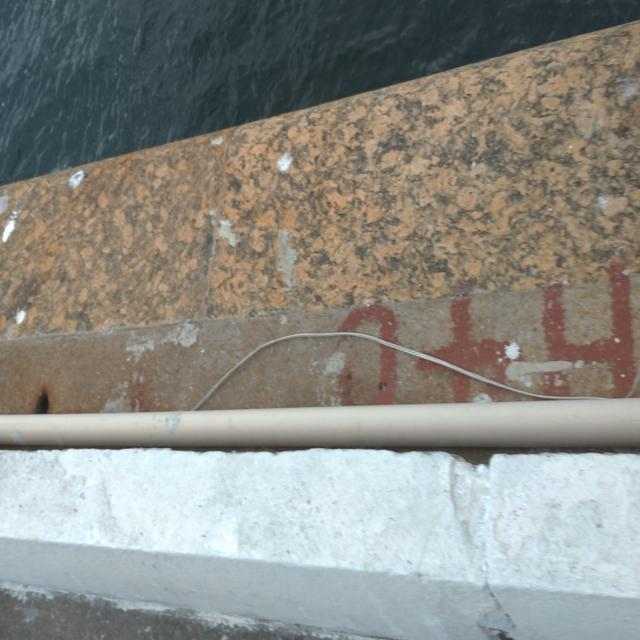gas: (0, 395, 639, 456)
